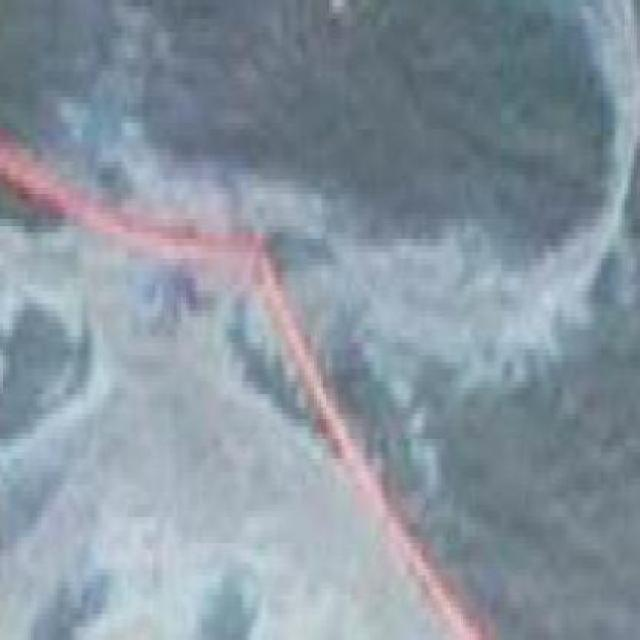sheen: (53, 0, 640, 385), (0, 192, 445, 640)
